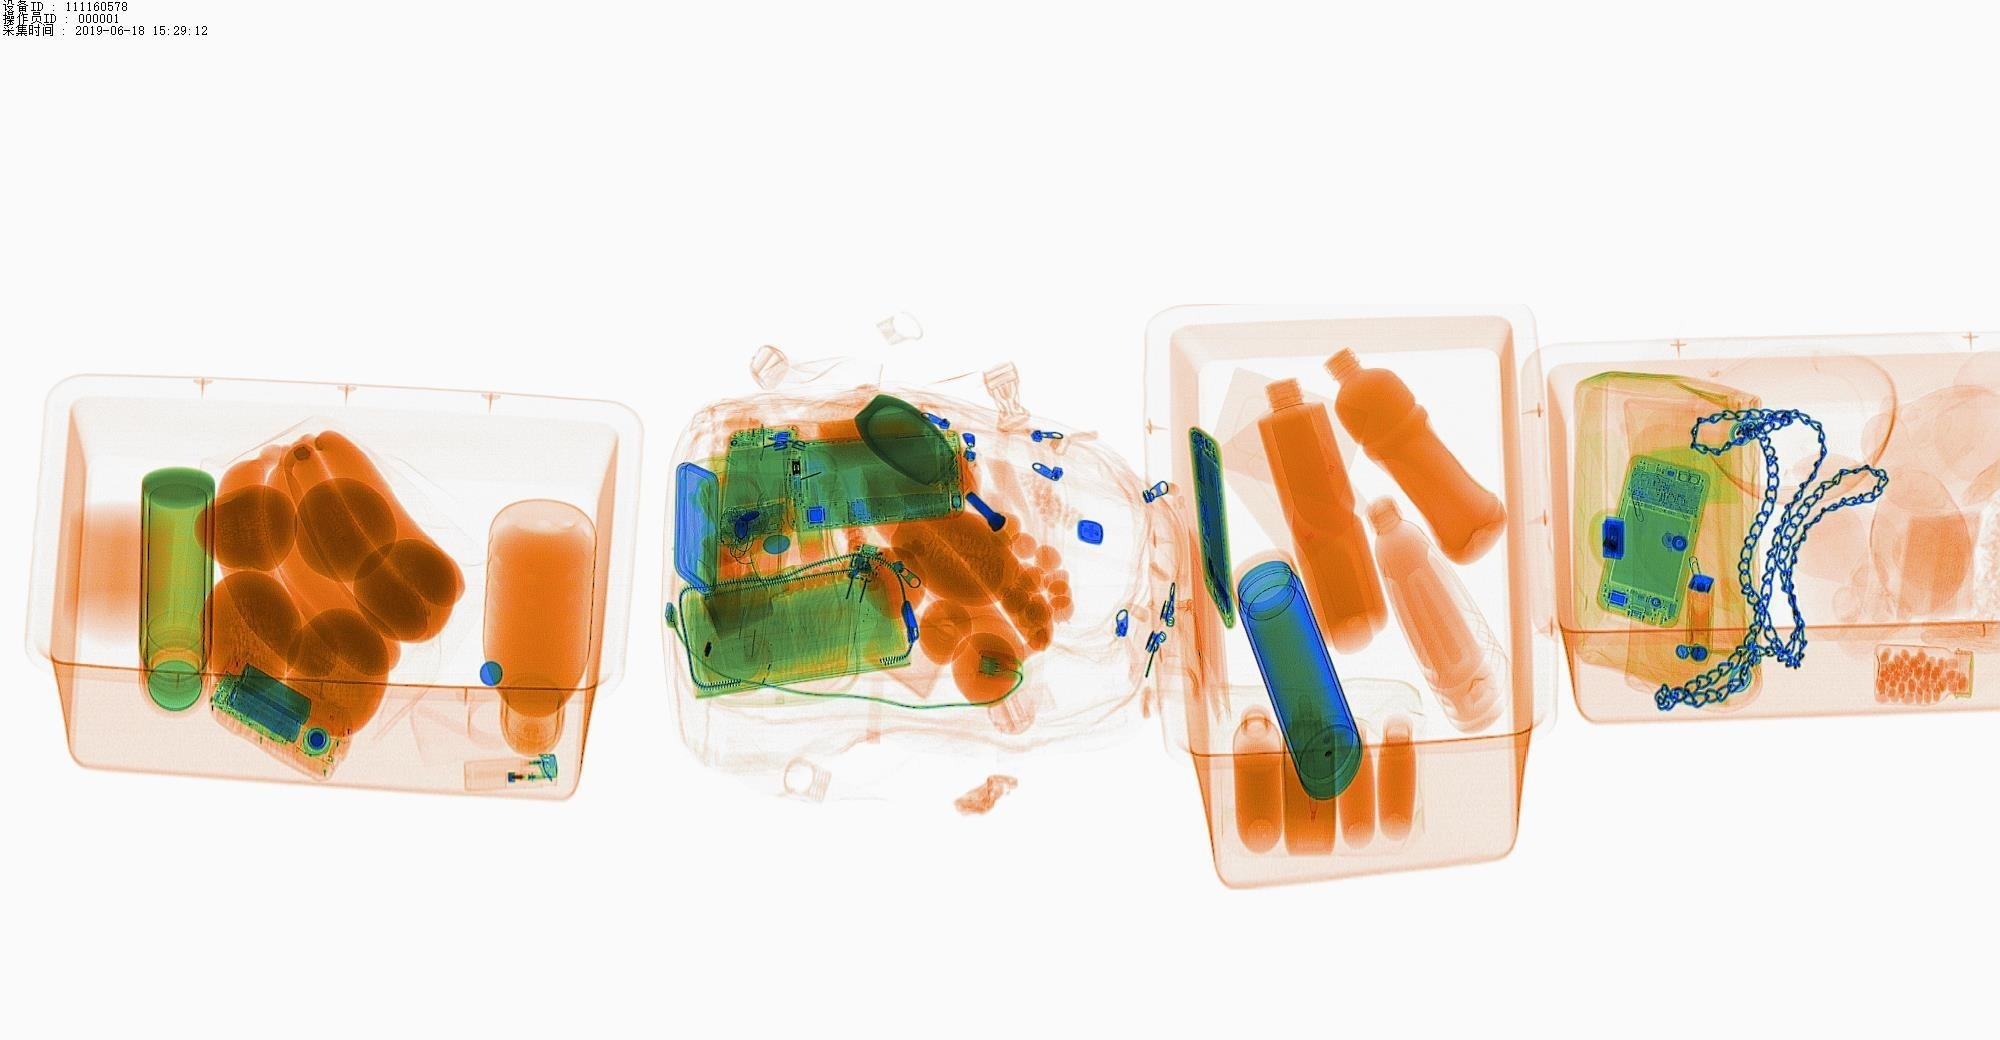NonmetallicFire: (452, 736, 610, 812)
